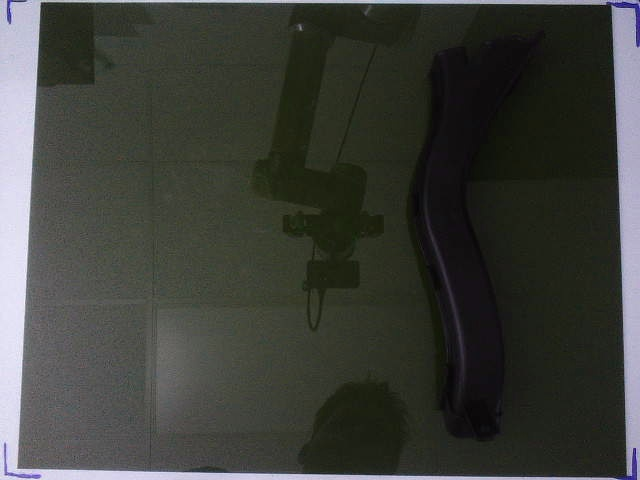887_B-Top: (416, 31, 544, 441)
